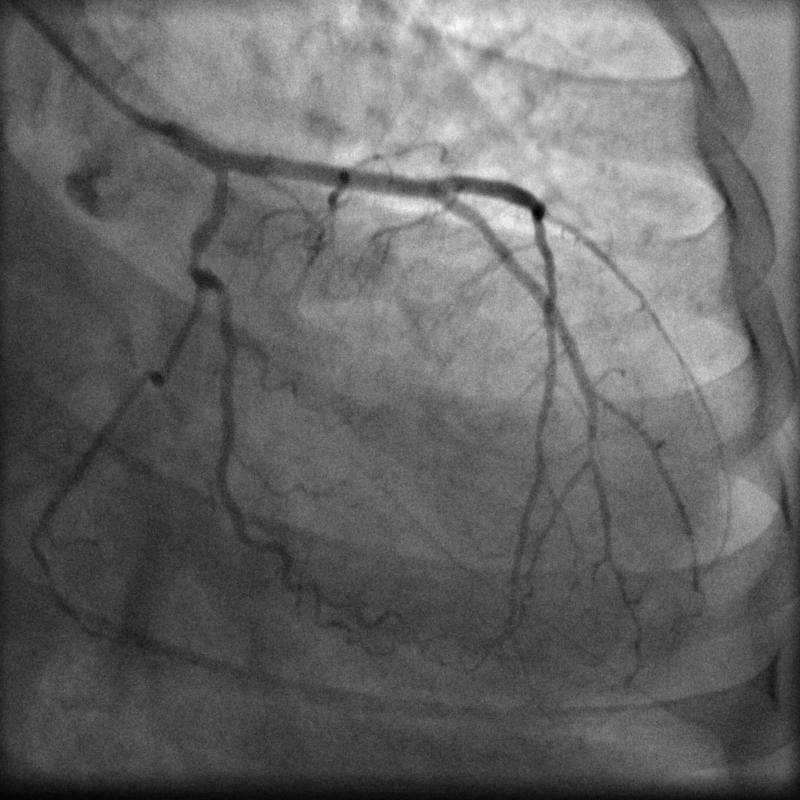Stenosis: (181, 231, 210, 270)
